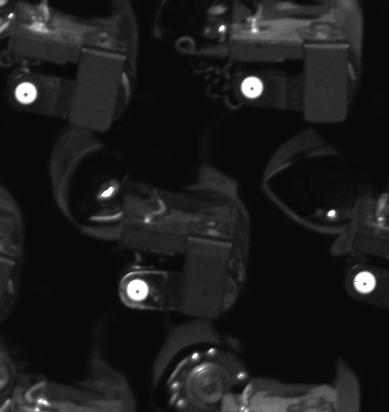fiber: (347, 268, 384, 300), (236, 73, 269, 104), (124, 277, 157, 305), (12, 81, 42, 109)
